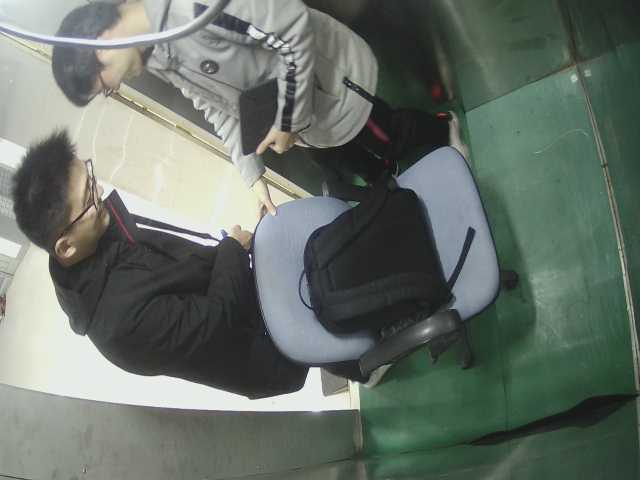bag: (298, 183, 454, 321)
chair: (195, 142, 527, 364)
person: (10, 130, 307, 395), (52, 1, 443, 164)
